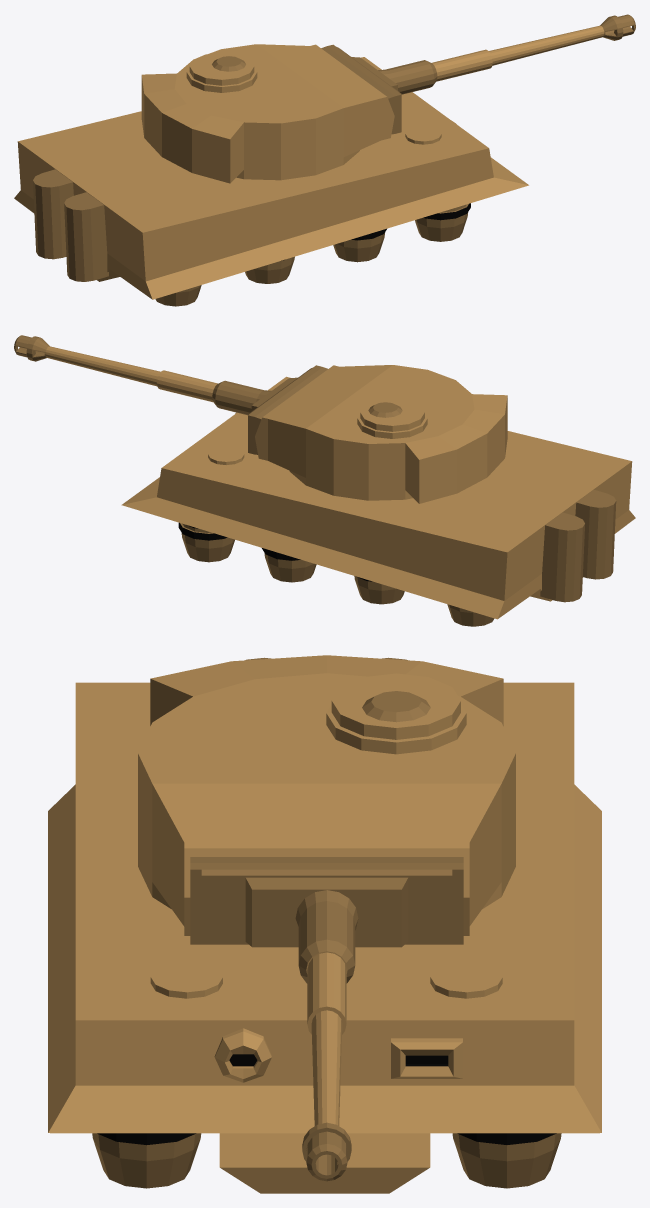
3 renders of one model, top to bottom at view 1: azimuth 30°, elevation 25°; view 2: azimuth 150°, elevation 25°; view 3: azimuth 270°, elevation 25°, orthographic. The views are drawn at different scales.
Parts seen in each view (by area): view 1: Cylinder.006, Cylinder, Cylinder.002, Cylinder.001, Cylinder.007, Cylinder.008, Cylinder.010, Cylinder.011; view 2: Cylinder.006, Cylinder, Cylinder.002, Cylinder.001, Cylinder.009, Cylinder.003, Cylinder.004, Cylinder.005; view 3: Cylinder.006, Cylinder, Cylinder.001, Cylinder.002, Cylinder.007, Cylinder.009.
Part boxes in pixels (bbox=[...]): Cylinder.006: bbox=[14, 57, 528, 299]; Cylinder: bbox=[141, 44, 394, 183]; Cylinder.002: bbox=[432, 14, 635, 81]; Cylinder.001: bbox=[321, 44, 437, 134]; Cylinder.007: bbox=[415, 203, 470, 241]; Cylinder.008: bbox=[333, 228, 386, 262]; Cylinder.010: bbox=[245, 256, 294, 283]; Cylinder.011: bbox=[155, 285, 201, 306]; Cylinder.006: bbox=[121, 376, 635, 619]; Cylinder: bbox=[255, 365, 507, 503]; Cylinder.002: bbox=[14, 335, 217, 402]; Cylinder.001: bbox=[212, 365, 327, 454]; Cylinder.009: bbox=[178, 522, 234, 562]; Cylinder.003: bbox=[262, 548, 316, 582]; Cylinder.004: bbox=[354, 576, 404, 604]; Cylinder.005: bbox=[447, 604, 494, 626]; Cylinder.006: bbox=[48, 657, 601, 1193]; Cylinder: bbox=[138, 655, 515, 935]; Cylinder.001: bbox=[190, 857, 463, 983]; Cylinder.002: bbox=[302, 952, 351, 1181]; Cylinder.007: bbox=[92, 1133, 201, 1188]; Cylinder.009: bbox=[452, 1133, 561, 1188].
Bounding box in the file's own units: 3704 × 1012 × 1530.
